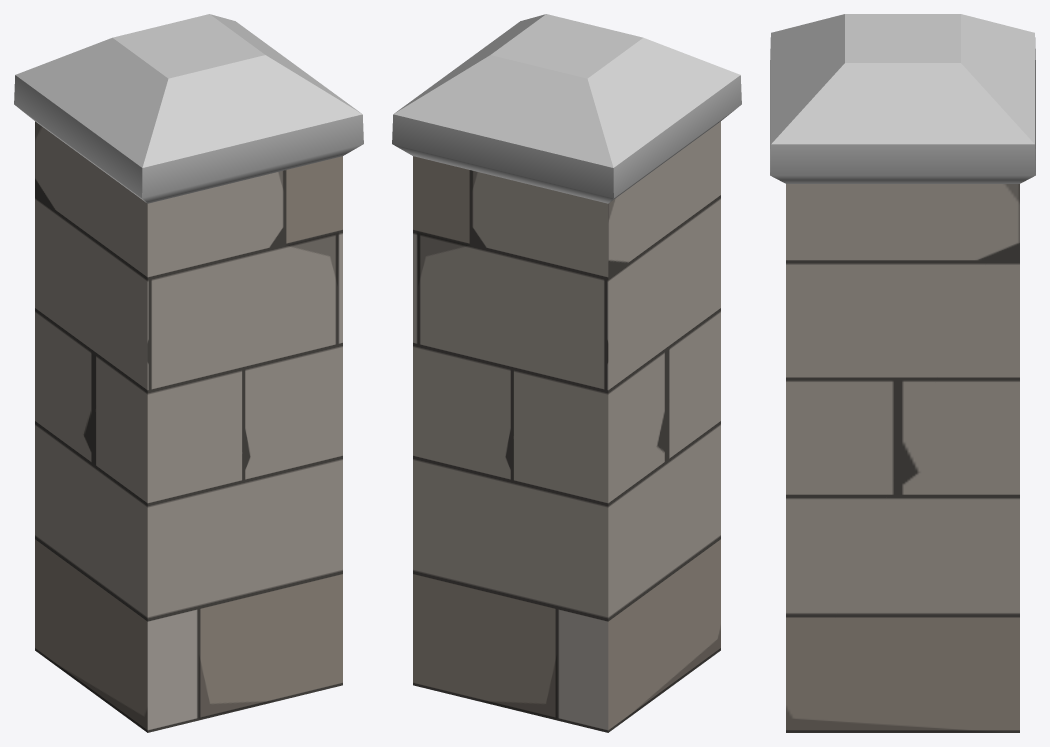
Rendered from SM_Bld_Roof_Base_Pillar_01.fbx.
3 renders of one model, left to right at view 1: azimuth 30°, elevation 25°; view 2: azimuth 150°, elevation 25°; view 3: azimuth 270°, elevation 25°, orthographic. The views are drawn at different scales.
Parts seen in each view (by area): view 1: SM_Bld_Roof_Base_Pillar_01; view 2: SM_Bld_Roof_Base_Pillar_01; view 3: SM_Bld_Roof_Base_Pillar_01.
Part boxes in pixels (x1=…): SM_Bld_Roof_Base_Pillar_01: x1=14, y1=14, x2=363, y2=732; SM_Bld_Roof_Base_Pillar_01: x1=392, y1=14, x2=741, y2=732; SM_Bld_Roof_Base_Pillar_01: x1=770, y1=14, x2=1035, y2=732.
Size of the model in its own units: 31.47 by 85.79 by 31.47.
